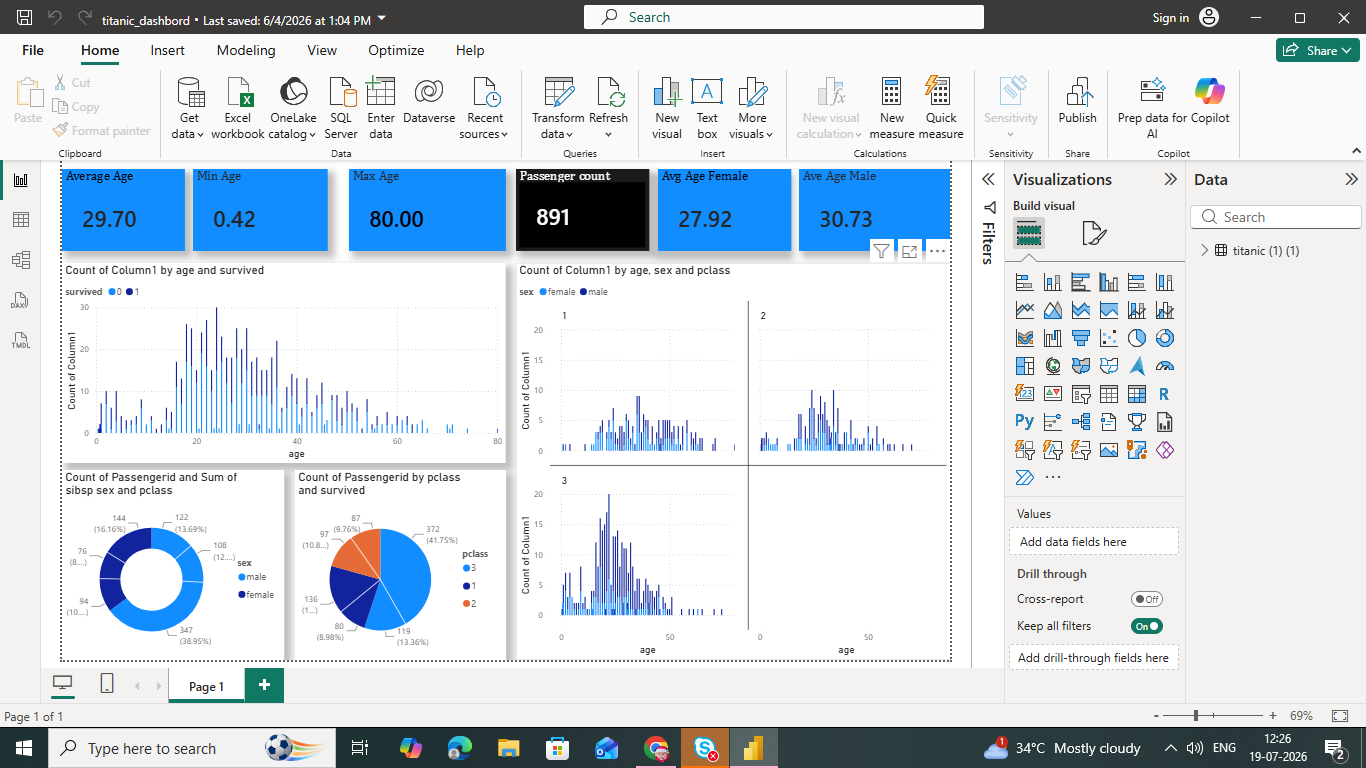

The page's visual inventory and layout, read from the dashboard file:
{"tool":"powerbi","page":{"name":"Page 1","canvas":[1280,720],"ordinal":0},"visuals":[{"type":"cardVisual","title":"Average Age","fields":{"Data":["Avg(titanic (1) (1).age)"]},"box":[0,13,177.1,118.1],"z":0},{"type":"cardVisual","title":"Min Age","fields":{"Data":["Min(titanic (1) (1).age)"]},"box":[188.6,13,194.4,118.1],"z":1000},{"type":"cardVisual","title":"Max Age","fields":{"Data":["Max(titanic (1) (1).age)"]},"box":[413.3,13,226.1,118.1],"z":2000},{"type":"cardVisual","title":"Passenger count","fields":{"Data":["CountNonNull(titanic (1) (1).survived)"]},"box":[653.8,13,191.5,118.1],"z":3000},{"type":"cardVisual","title":"Avg Age Female","fields":{"Data":["titanic (1) (1).avefemale"]},"box":[858.2,13,191.5,118.1],"z":4000},{"type":"cardVisual","title":"Ave Age Male","fields":{"Data":["titanic (1) (1).avemale"]},"box":[1061.3,13,218.9,118.1],"z":5000},{"type":"lineStackedColumnComboChart","fields":{"Category":["titanic (1) (1).age"],"Y":["CountNonNull(titanic (1) (1).Column1)"],"Series":["titanic (1) (1).survived"]},"box":[0,148.3,639.4,288],"z":6000},{"type":"donutChart","title":"Count of Passengerid  and Sum of sibsp  sex and pclass","fields":{"Category":["titanic (1) (1).sex"],"Y":["CountNonNull(titanic (1) (1).Column1)"],"Series":["titanic (1) (1).pclass"]},"box":[0,446.4,319.7,273.6],"z":7000},{"type":"pieChart","title":"Count of Passengerid by pclass and survived","fields":{"Y":["CountNonNull(titanic (1) (1).Column1)"],"Category":["titanic (1) (1).pclass"],"Series":["titanic (1) (1).survived"]},"box":[335.5,446.4,303.8,273.6],"z":8000},{"type":"lineStackedColumnComboChart","fields":{"Y":["CountNonNull(titanic (1) (1).Column1)"],"Category":["titanic (1) (1).age"],"Series":["titanic (1) (1).sex"],"Rows":["titanic (1) (1).pclass"]},"box":[653.8,148.3,626.4,571.7],"z":9000}]}

Visuals, with their boxes on the page's 1280x720 design canvas (x1, y1, x2, y2). These are canvas units, not pixel positions in the 1366x768 screenshot, which may show the page scaled, cropped or inside an application window:
"Average Age" cardVisual: detection(0, 13, 177, 131)
"Min Age" cardVisual: detection(189, 13, 383, 131)
"Max Age" cardVisual: detection(413, 13, 639, 131)
"Passenger count" cardVisual: detection(654, 13, 845, 131)
"Avg Age Female" cardVisual: detection(858, 13, 1050, 131)
"Ave Age Male" cardVisual: detection(1061, 13, 1280, 131)
lineStackedColumnComboChart - titanic (1) (1).age x CountNonNull(titanic (1) (1).Column1): detection(0, 148, 639, 436)
"Count of Passengerid  and Sum of sibsp  sex and pclass" donutChart: detection(0, 446, 320, 720)
"Count of Passengerid by pclass and survived" pieChart: detection(336, 446, 639, 720)
lineStackedColumnComboChart - CountNonNull(titanic (1) (1).Column1) x titanic (1) (1).age: detection(654, 148, 1280, 720)
